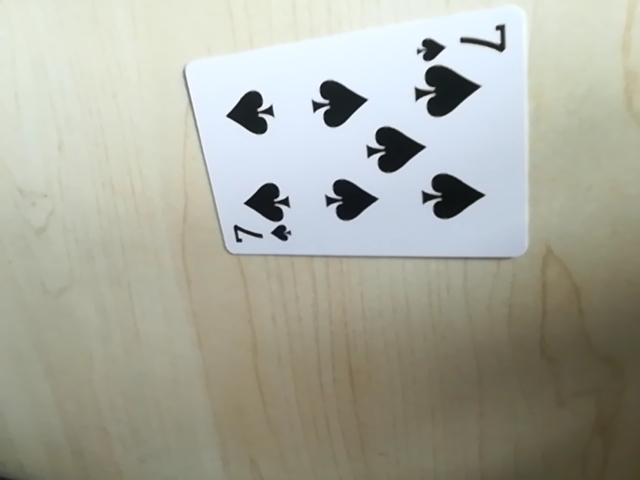ht 7: (415, 17, 514, 59), (223, 220, 294, 253)
